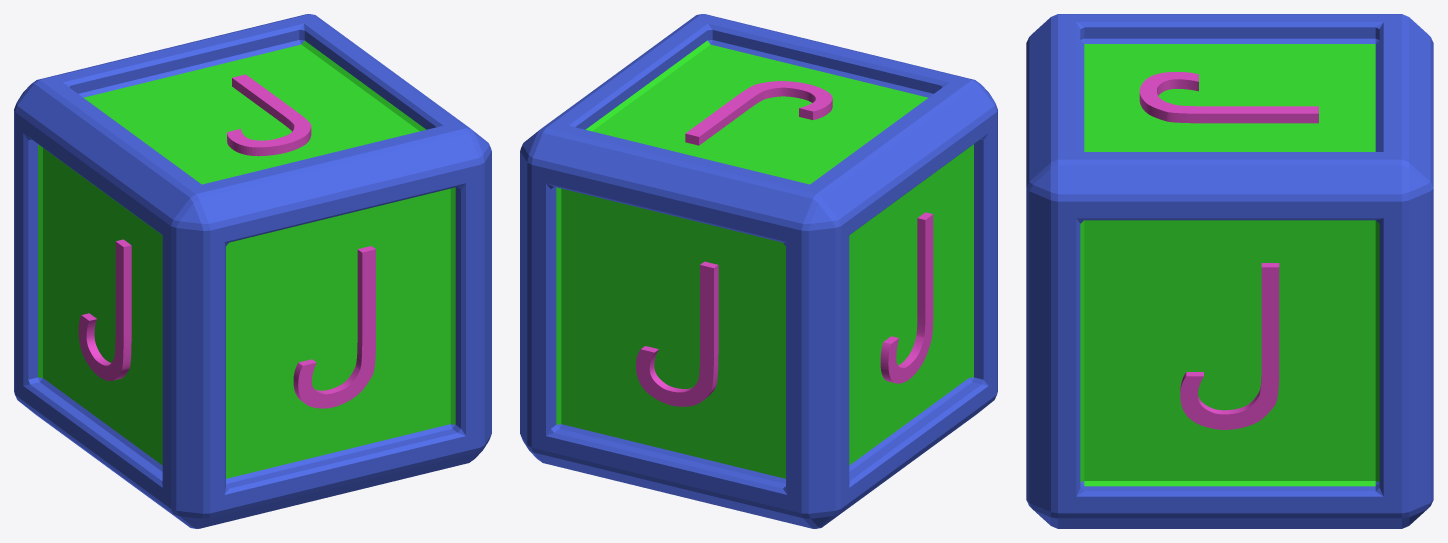
3 renders of one model, left to right at view 1: azimuth 30°, elevation 25°; view 2: azimuth 150°, elevation 25°; view 3: azimuth 270°, elevation 25°, orthographic. The views are drawn at different scales.
Visible parts, largest first — view 1: Text.013; view 2: Text.013; view 3: Text.013.
Part boxes in pixels (bbox=[...]): Text.013: bbox=[14, 14, 491, 528]; Text.013: bbox=[520, 14, 997, 528]; Text.013: bbox=[1026, 14, 1433, 528].
Bounding box in the file's own units: 15 × 15 × 15.
